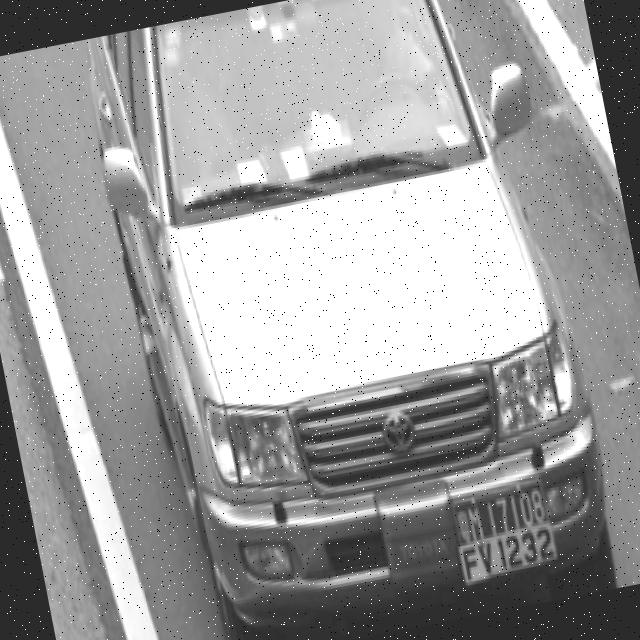Autre: (450, 484, 560, 584)
